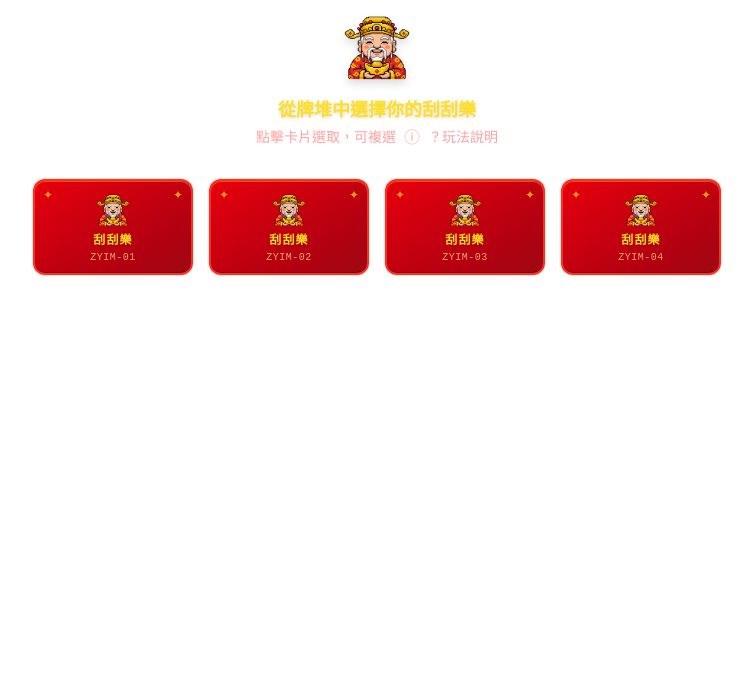
Scenario: CardPile › 選取卡片後應顯示「開始刮」按鈕
This screenshot has width=739, height=695.
Click the button "刮刮樂" at (113, 227), box [33, 179, 193, 275]
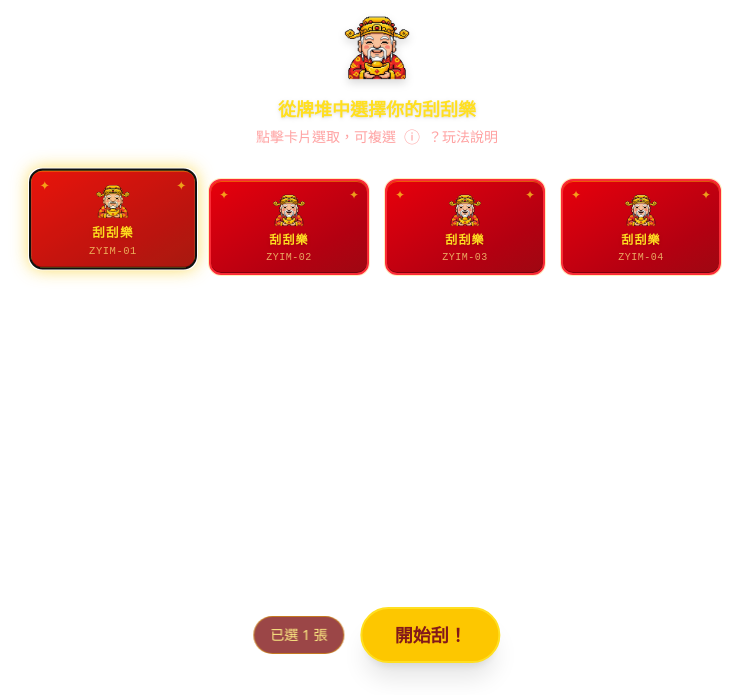
Result: the button "開始刮！" is shown at [361, 607, 501, 663]
